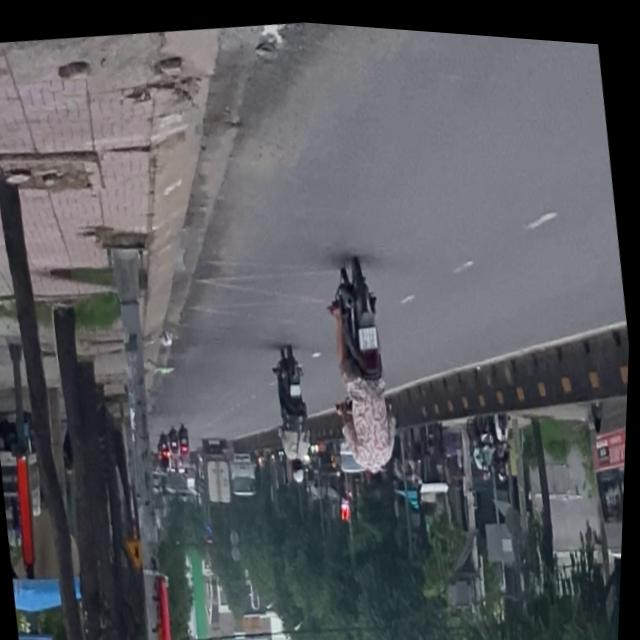licenseplate: (317, 247, 414, 505)
motorcyclist: (366, 460, 392, 500)
nohelmet: (360, 320, 382, 345)
